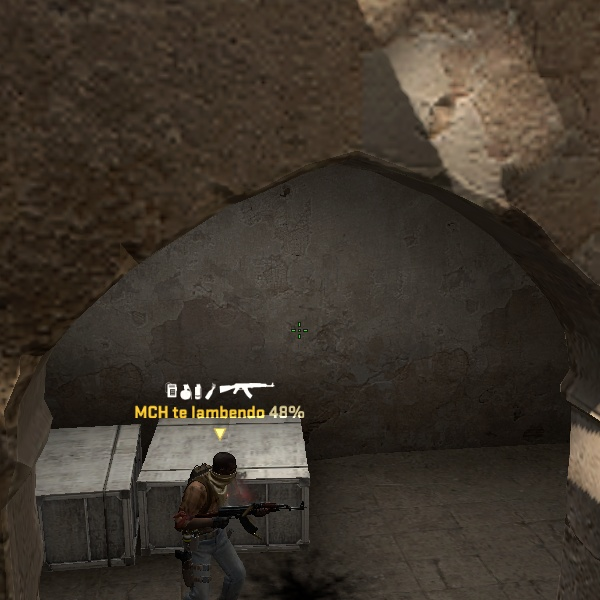t_body: (160, 445, 278, 600)
t_head: (202, 446, 245, 491)
